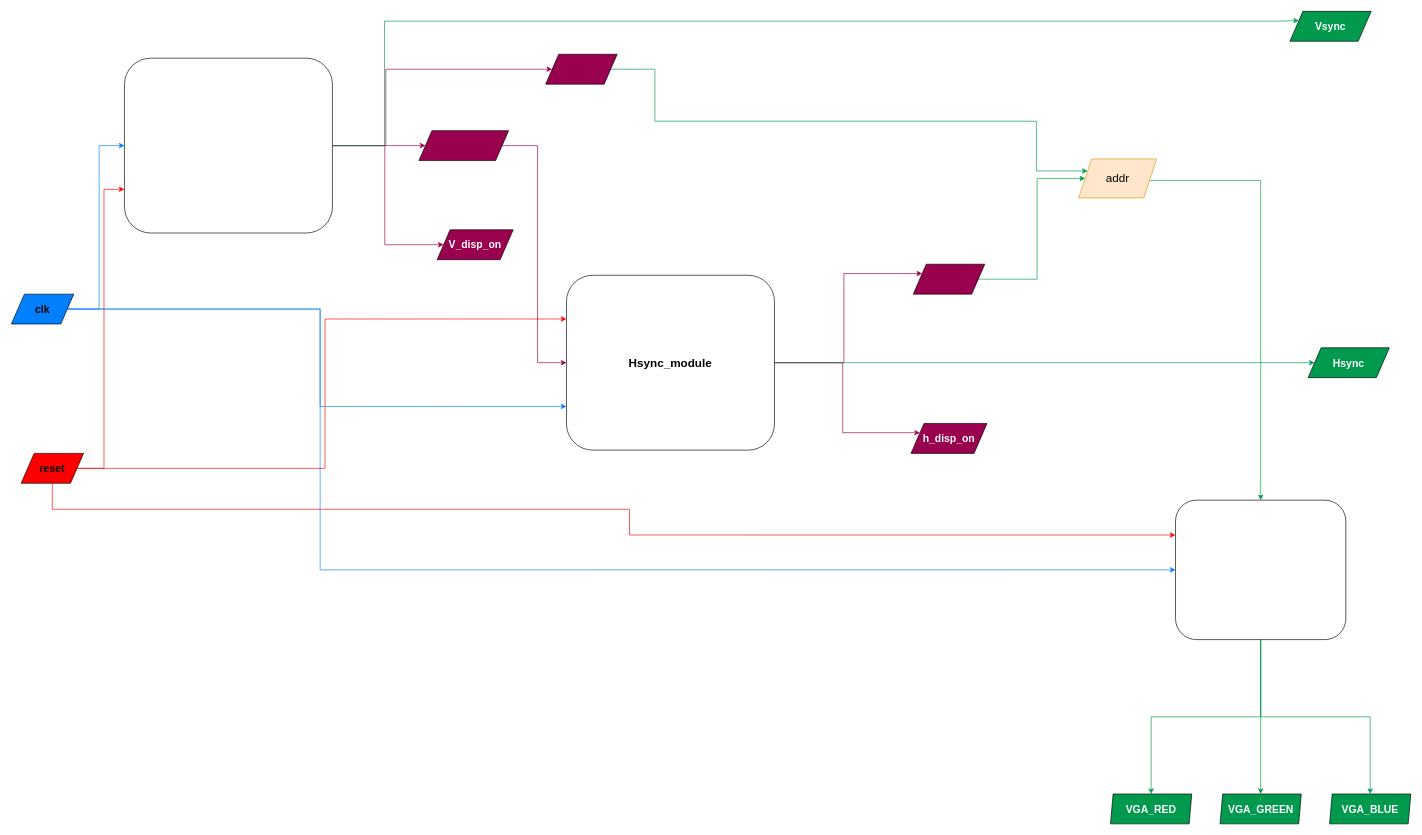
Some shapes in this 1422 by 835 pixel diagram are drawn without their labels. The box of each missing label's shape, as (x1, y1, x2, y2) in pixels:
BRAM_module: (1175, 500, 1346, 640)
Enable_hsync: (418, 130, 509, 161)
h_pixel: (913, 264, 985, 294)
V_pixel: (545, 54, 617, 84)
Vsync_module: (124, 58, 332, 233)
